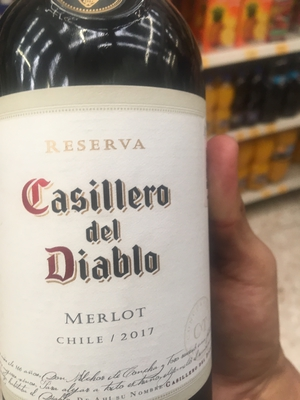casillero del diablo merlot: (2, 9, 217, 400)
